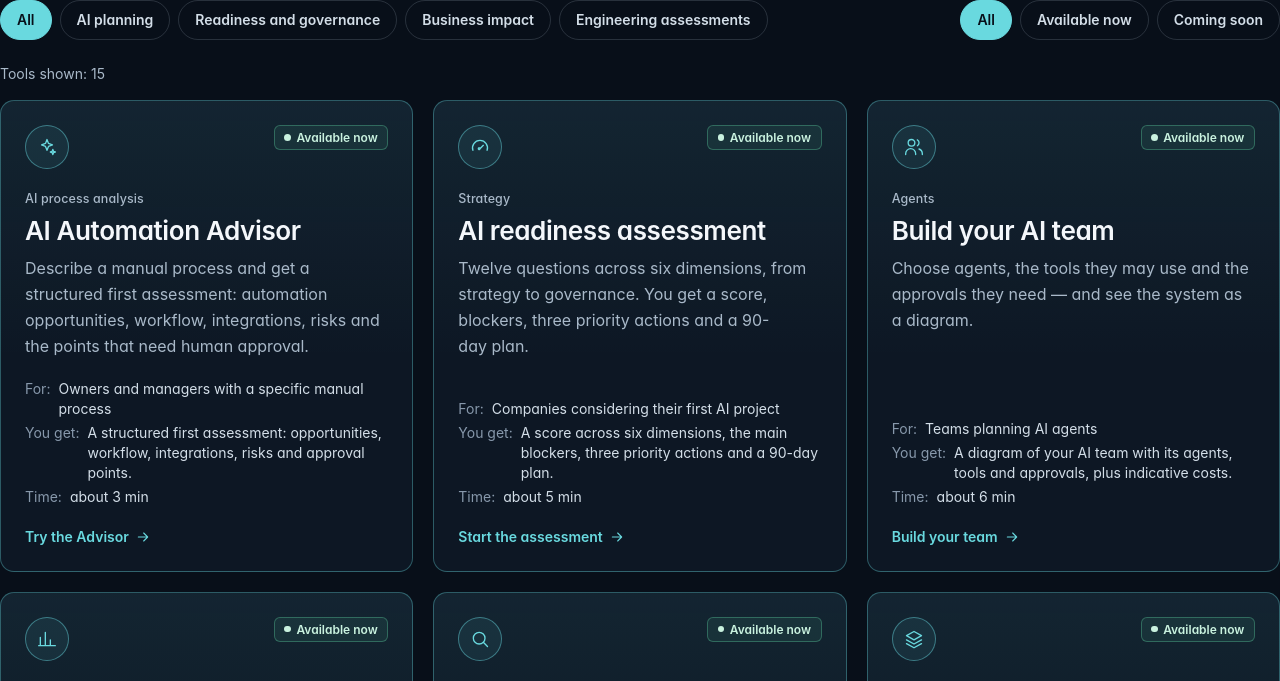
tools directory › filters by category and availability with pressed-state buttons and a live count
The image size is (1280, 681).
Click the button "Engineering assessments": (663,20) [559,0,768,40]
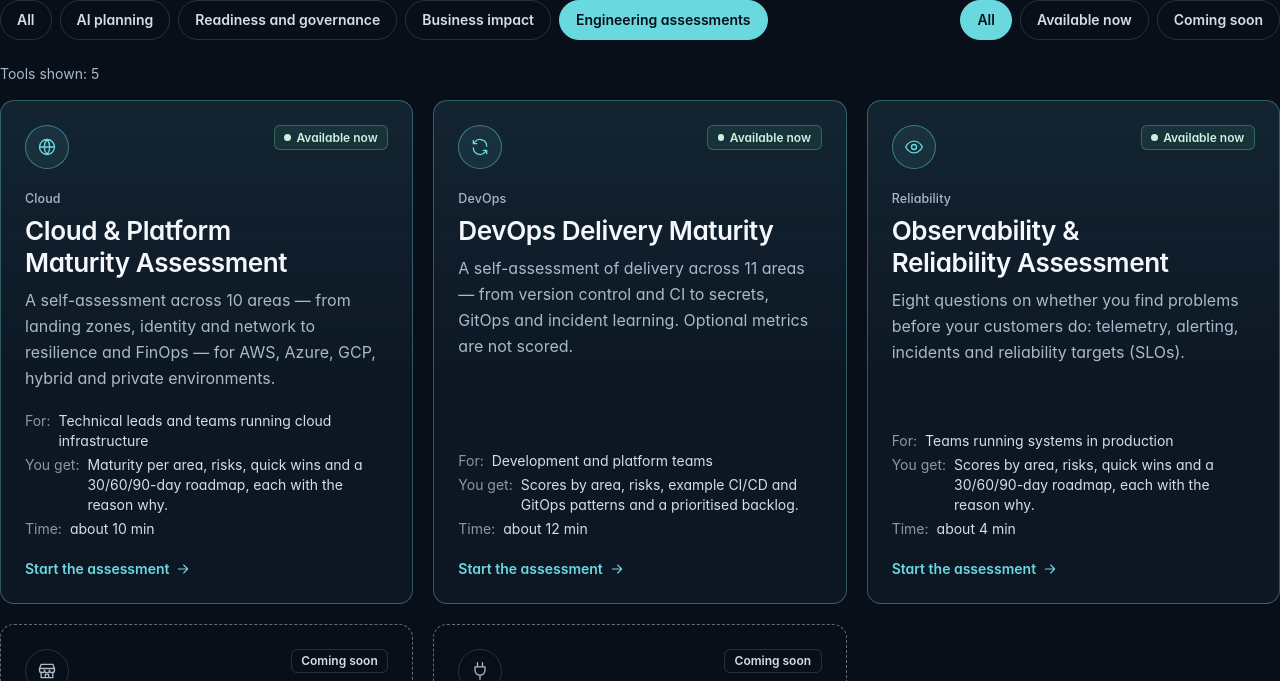
Expected: the text with test id "tools-count" reads "Tools shown: 5", [0,65,99,82]
Click the button "Available now": (1084,20) [1020,0,1149,40]
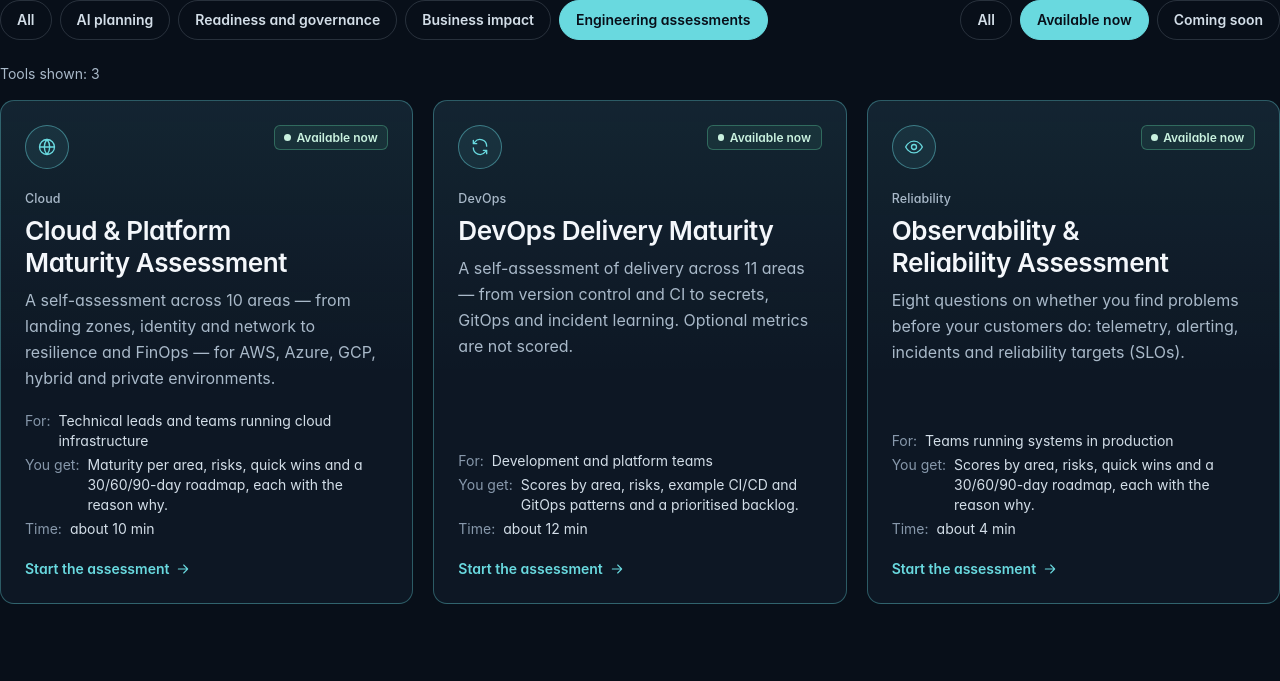
Expected: the text with test id "tools-count" reads "Tools shown: 3", [0,65,100,82]
Click the button "Coming soon": (1218,20) [1157,0,1279,40]
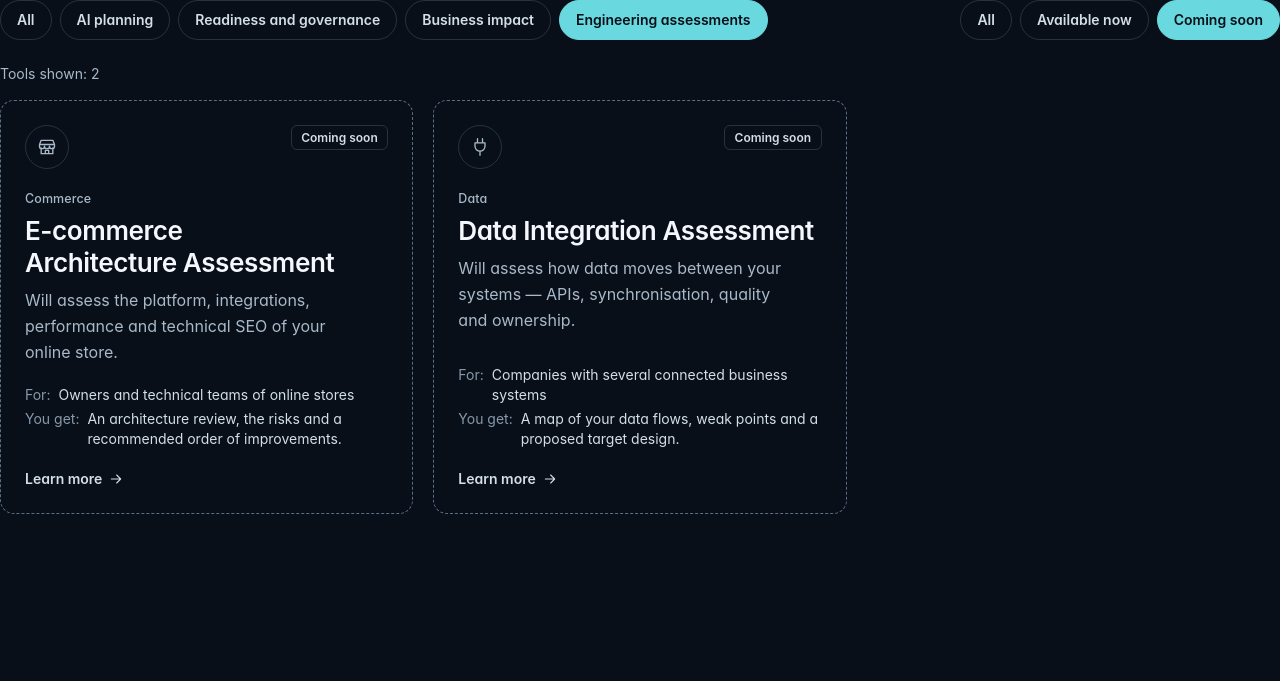
Expected: the text with test id "tools-count" reads "Tools shown: 2", [0,65,100,82]
Every AI-planning tool is live, so this combination has nothing left.
Click the button "AI planning": (115,20) [60,0,170,40]
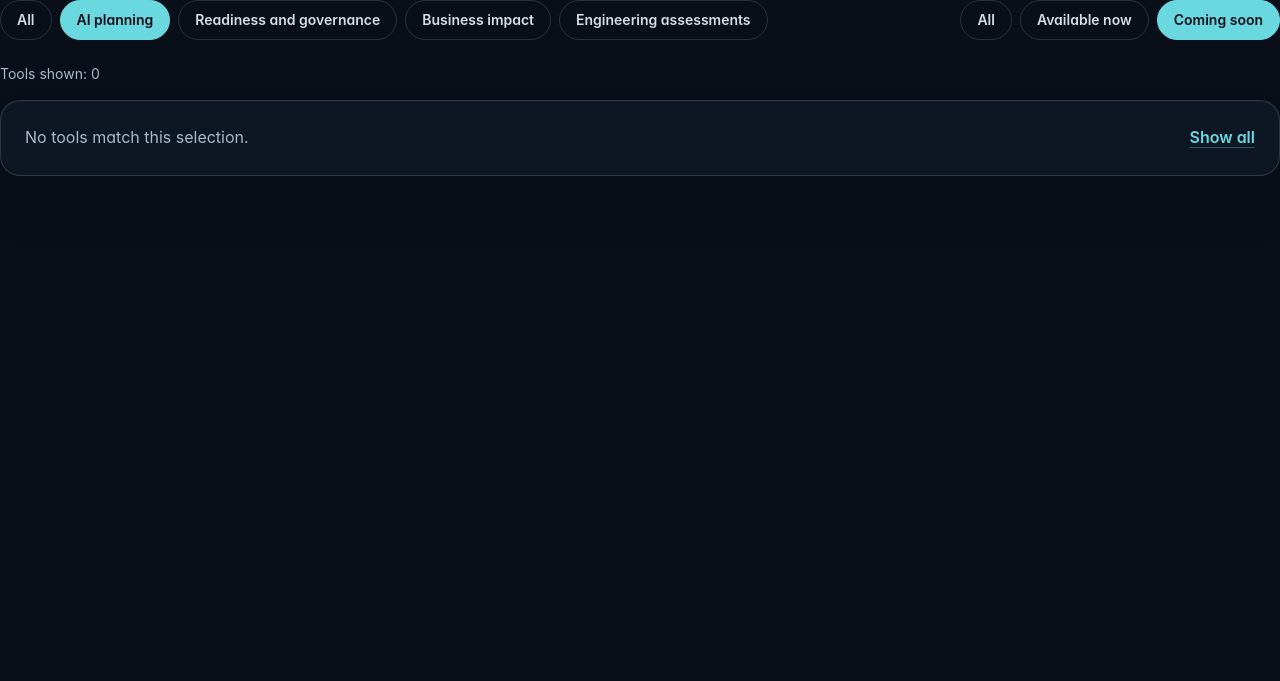
Expected: the text "No tools match this selection." is shown, [25,125,249,151]
Click the button "Show all": (1222,138) [1190,125,1255,151]
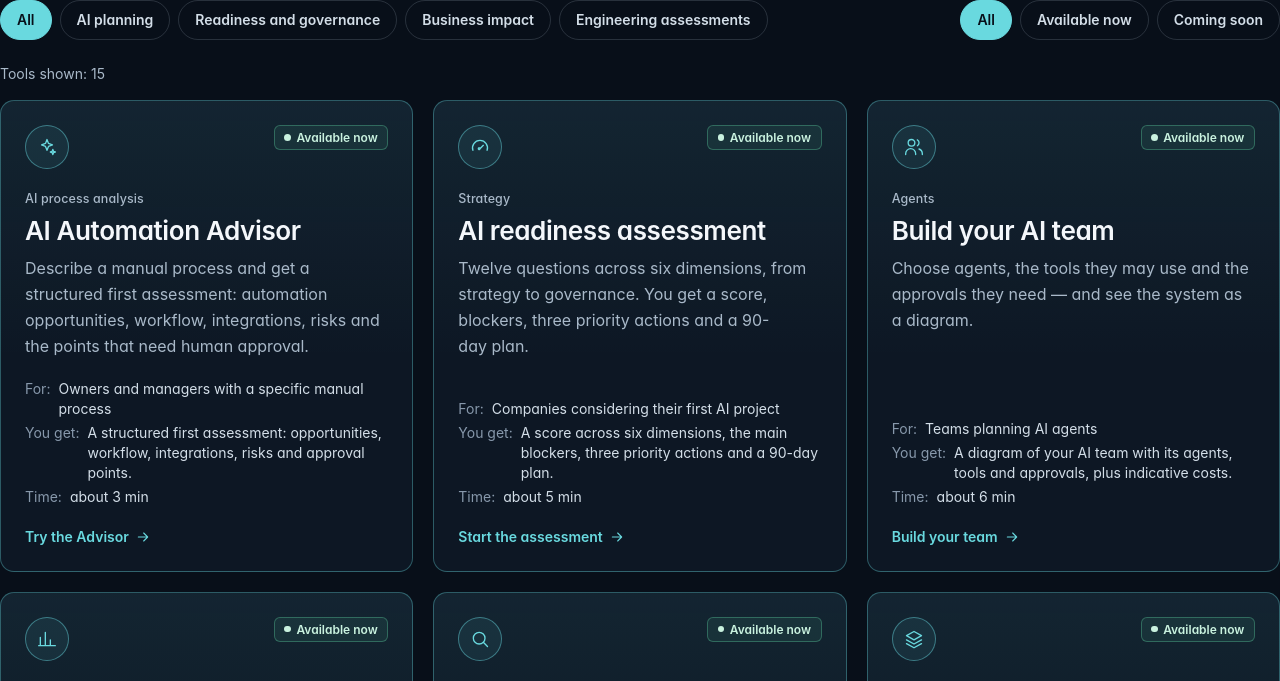
Click the button "Coming soon": (1218,20) [1157,0,1279,40]
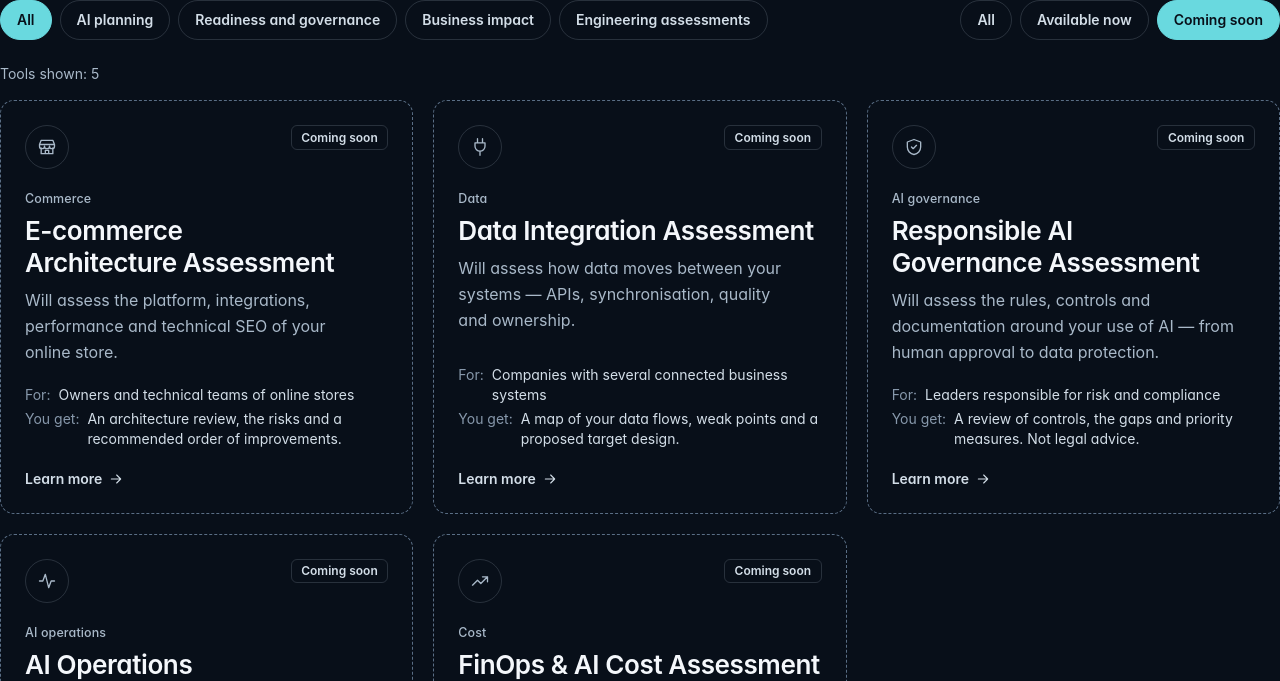
Expected: the text with test id "tools-count" reads "Tools shown: 5", [0,65,99,82]
